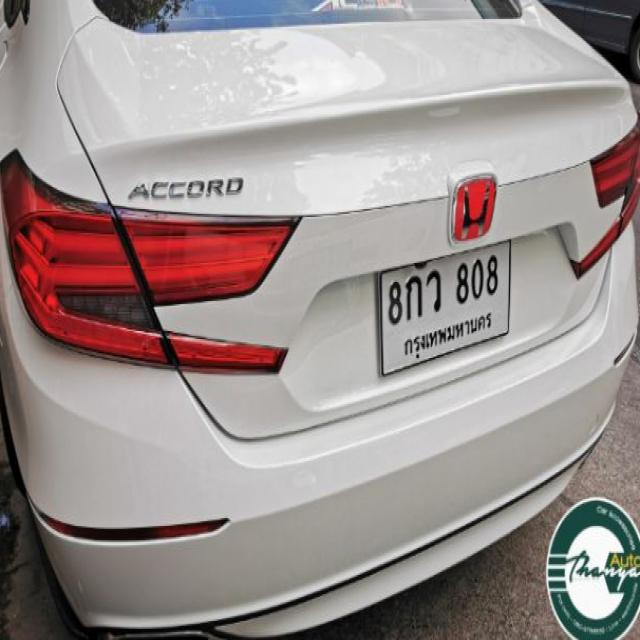license_plate: (377, 237, 512, 379)
